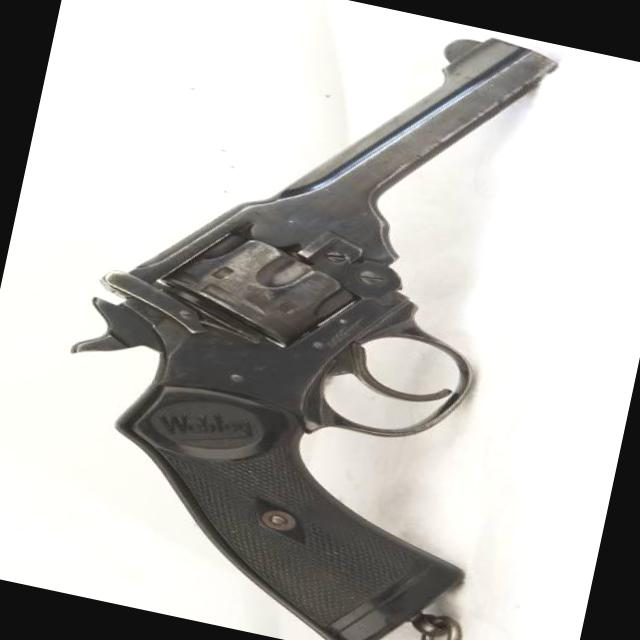handgun: (15, 0, 561, 639)
